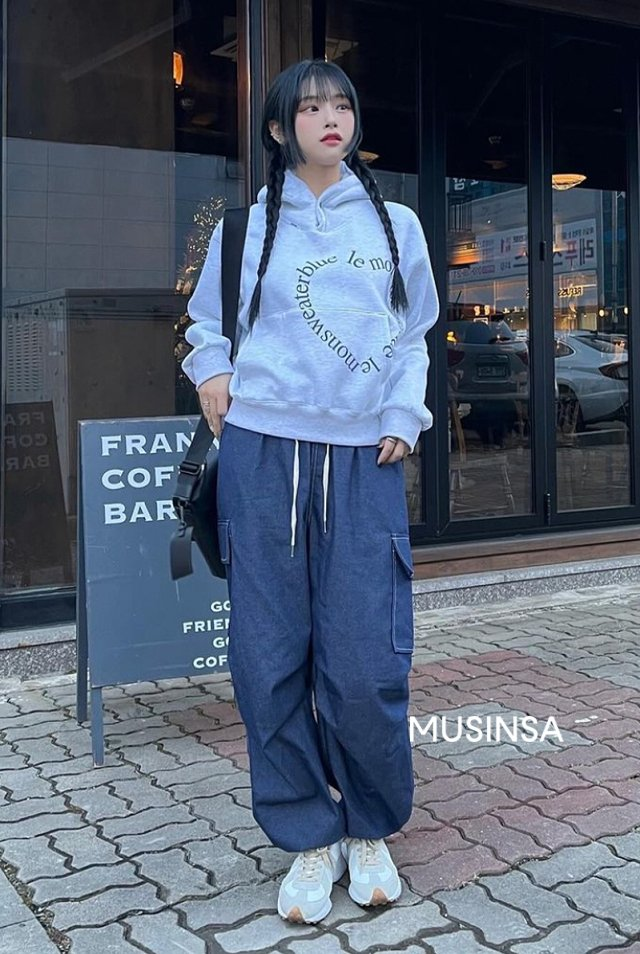Bag: (166, 198, 256, 604)
Hoodie: (181, 163, 450, 451)
Pants: (220, 409, 425, 852)
Shoes: (270, 828, 421, 938)
